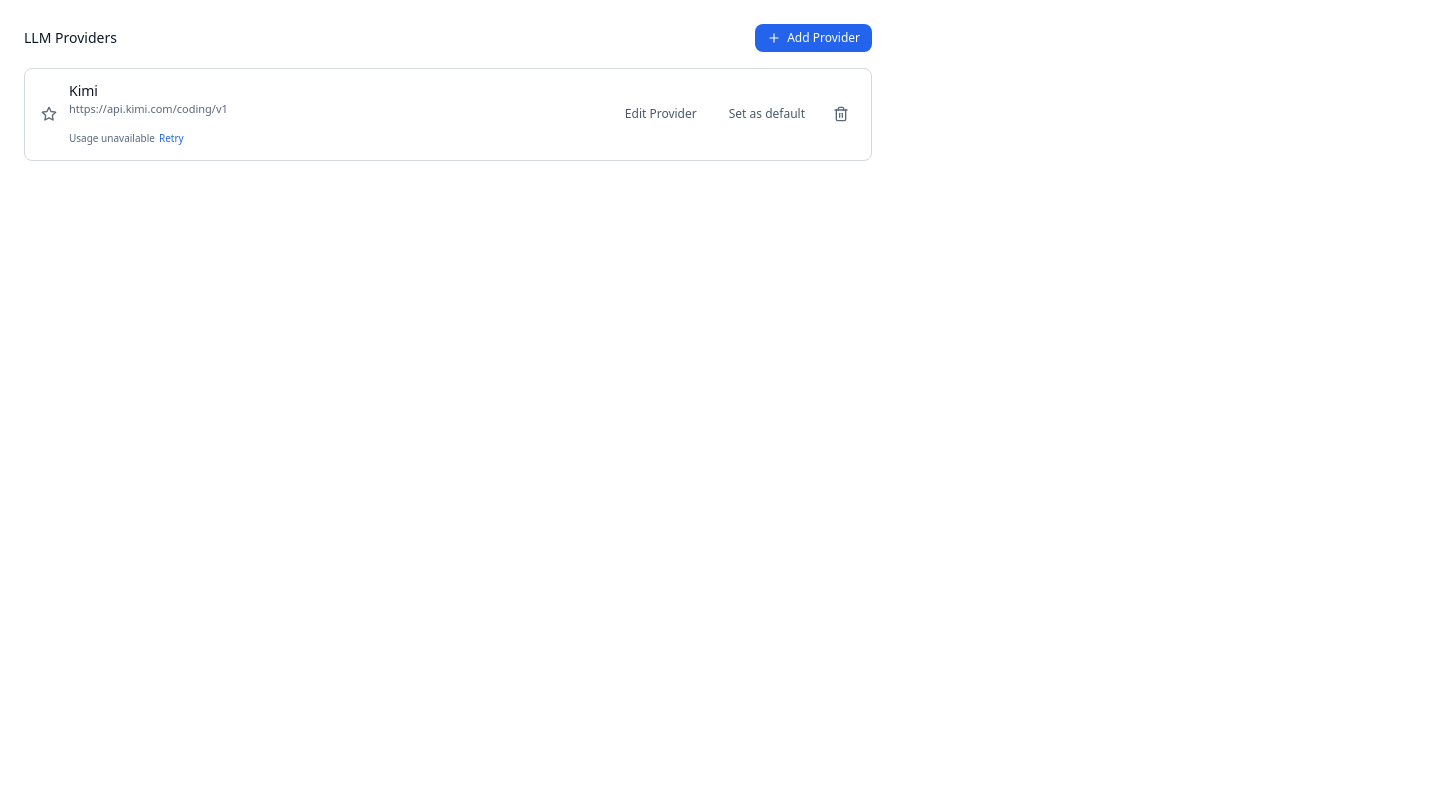
Test case: ProviderSection › loads the truthful affected-session count before opening delete confirmation
Click the button named "Delete Kimi". click: (841, 114)
box: [827, 100, 855, 128]
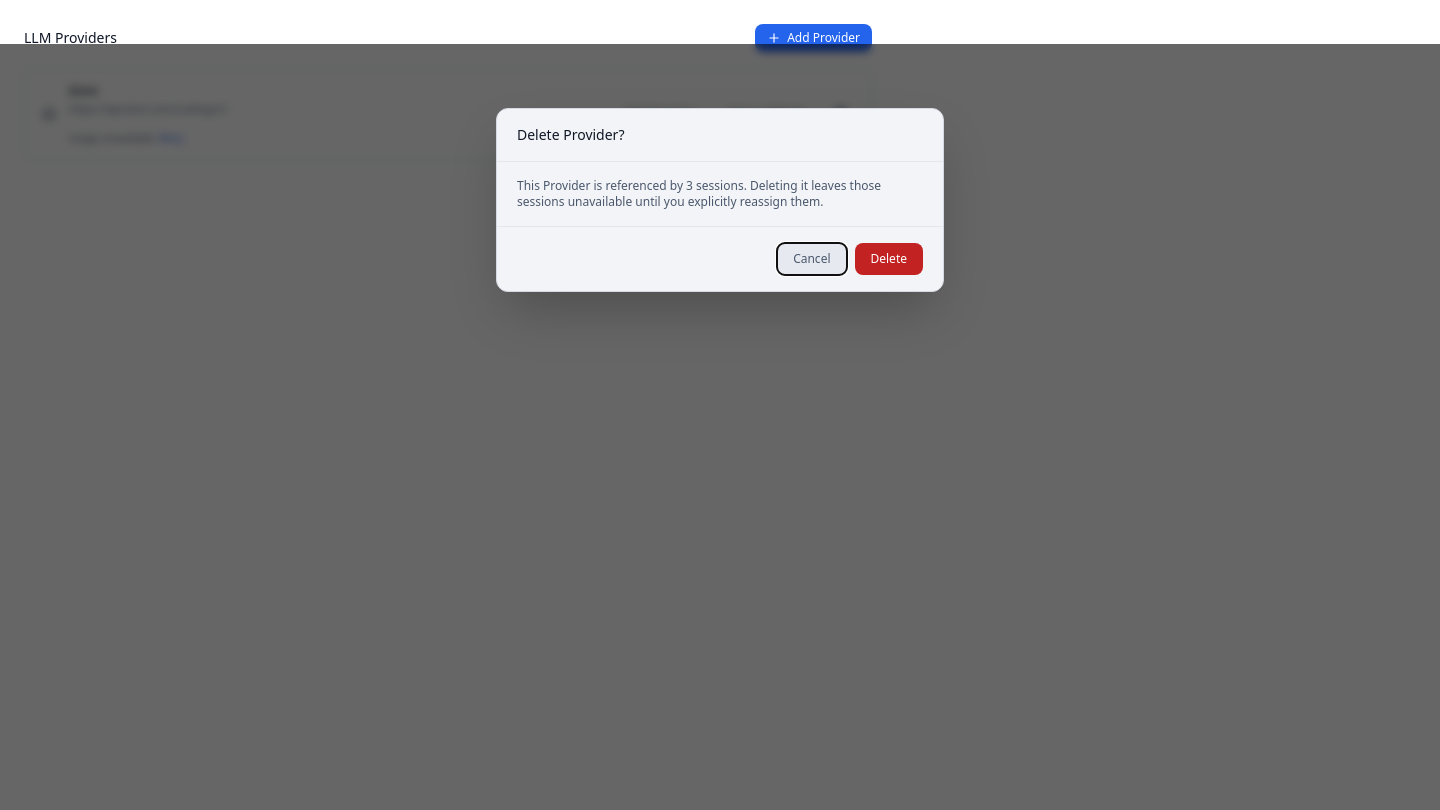
Result: the dialog "Delete Provider?" shows "This Provider is referenced by 3 sessions" at [517, 177, 881, 210]
